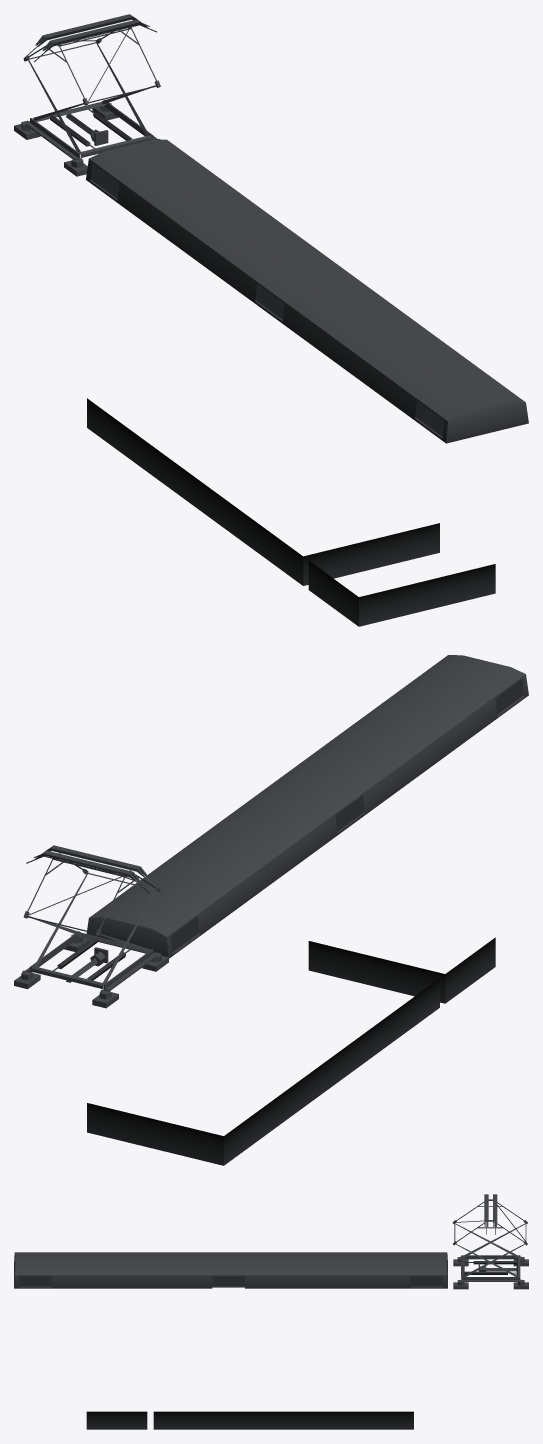
The model's file is UV_PANTA01.glb.
The picture shows the model from 3 angles, top to bottom: view 1: azimuth 30°, elevation 25°; view 2: azimuth 150°, elevation 25°; view 3: azimuth 270°, elevation 25°; orthographic projection. The views are drawn at different scales.
Parts seen in each view (by area): view 1: obj2; view 2: obj2; view 3: obj2.
Part boxes in pixels (left/top/right/bottom): obj2: left=14, top=14, right=528, bottom=626; obj2: left=14, top=655, right=528, bottom=1165; obj2: left=14, top=1194, right=528, bottom=1429.
Size of the model in its own units: 4.96 by 11.63 by 26.84.
Materials: 1 (1 with a texture image).
